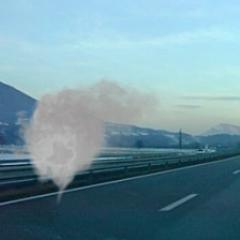smoke: (4, 72, 164, 206)
